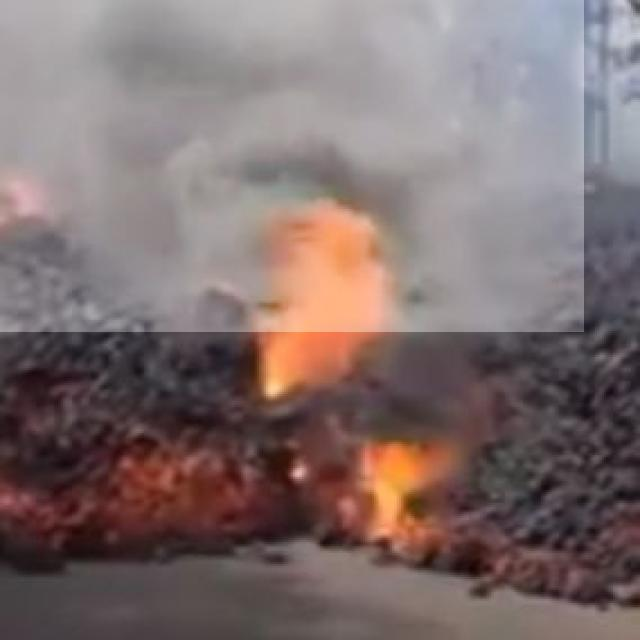Smoke: (0, 0, 584, 332)
